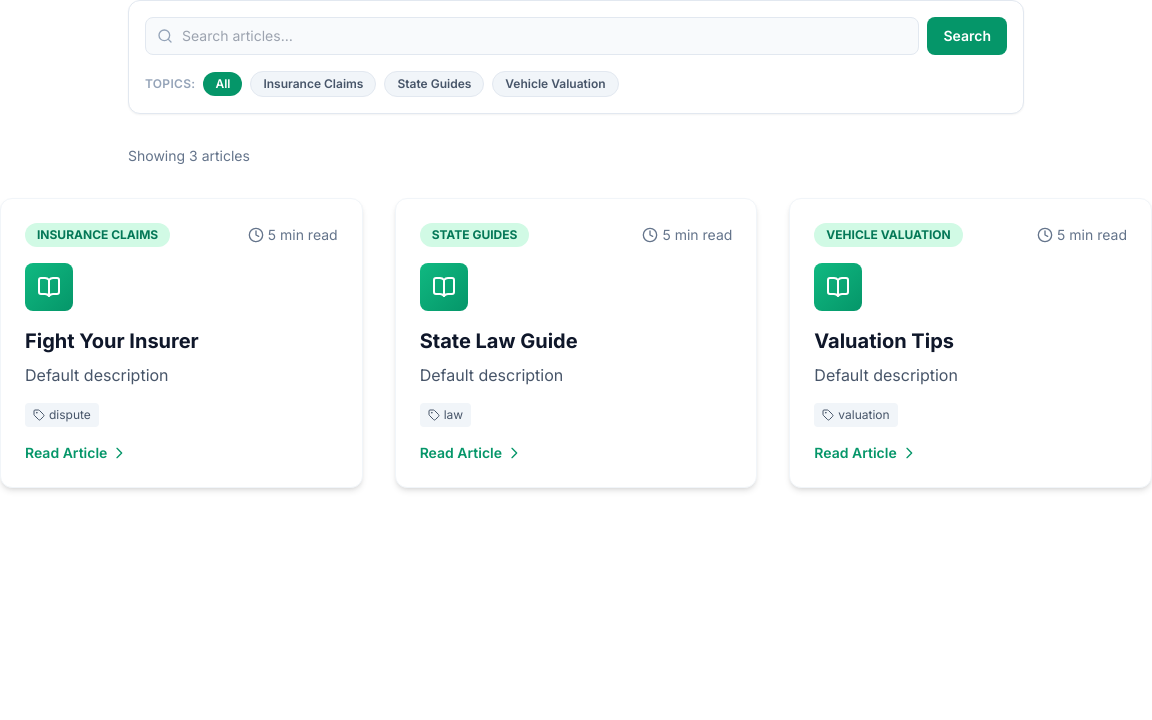
Test: KBClientPage › filters articles by category when a category pill is clicked
The image size is (1152, 720).
Click the button "State Guides" at [434, 84], box [384,71,484,97]
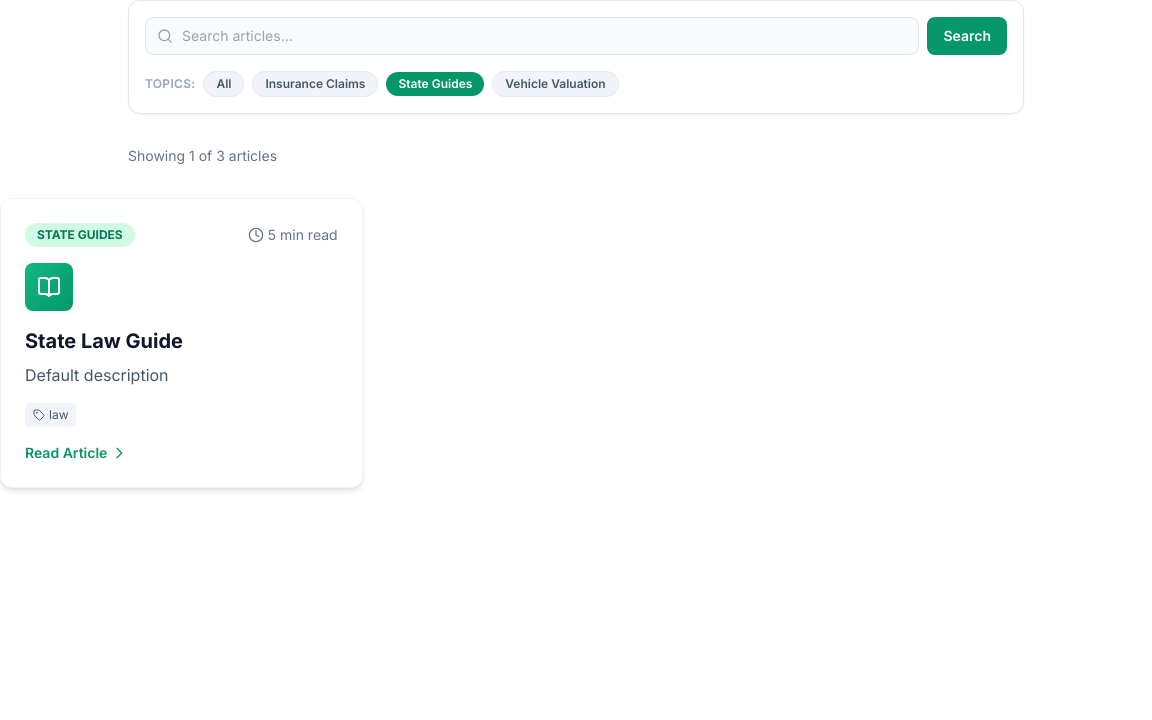
Expected: the heading "State Law Guide" is shown, [25,329,183,353]
Expected: the link "Fight Your Insurer" is gone
Expected: the link "Valuation Tips" is gone
